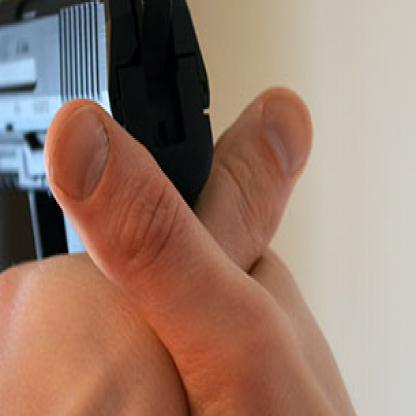gun: (0, 0, 258, 373)
